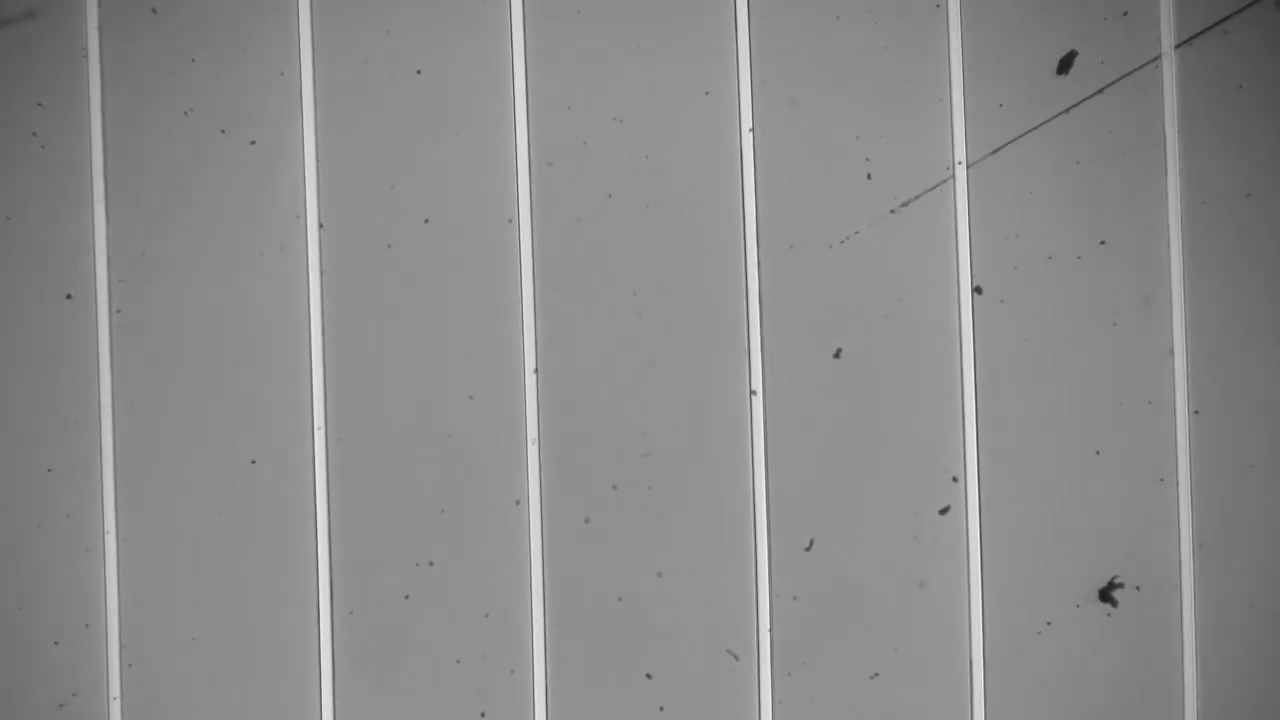scratch: (828, 1, 1260, 246)
